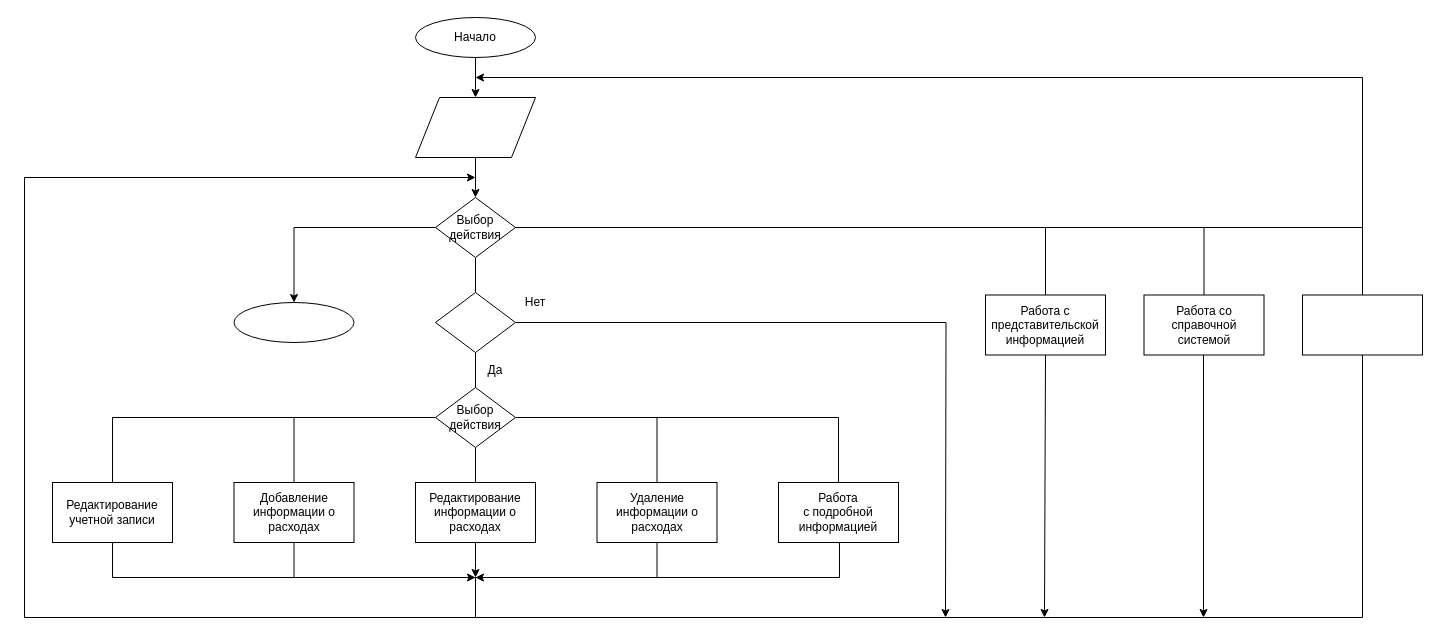
This 1440x643 diagram has some shape labels left out. Each missing label, with the centre of its shape:
"Авторизация" belongs at pixel 1362 324.
"Вывод главной страницы" belongs at pixel 475 127.
"Есть доступ?" belongs at pixel 475 322.
"Конец" belongs at pixel 293 322.
